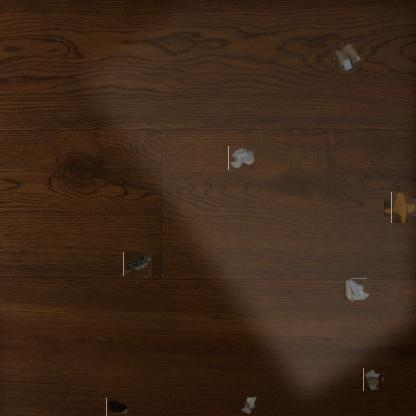dirty: (333, 43, 363, 73), (125, 251, 151, 278), (230, 146, 254, 171), (346, 277, 370, 301), (362, 369, 384, 390), (239, 394, 259, 416)
liquid: (388, 195, 412, 220), (106, 398, 129, 416)
